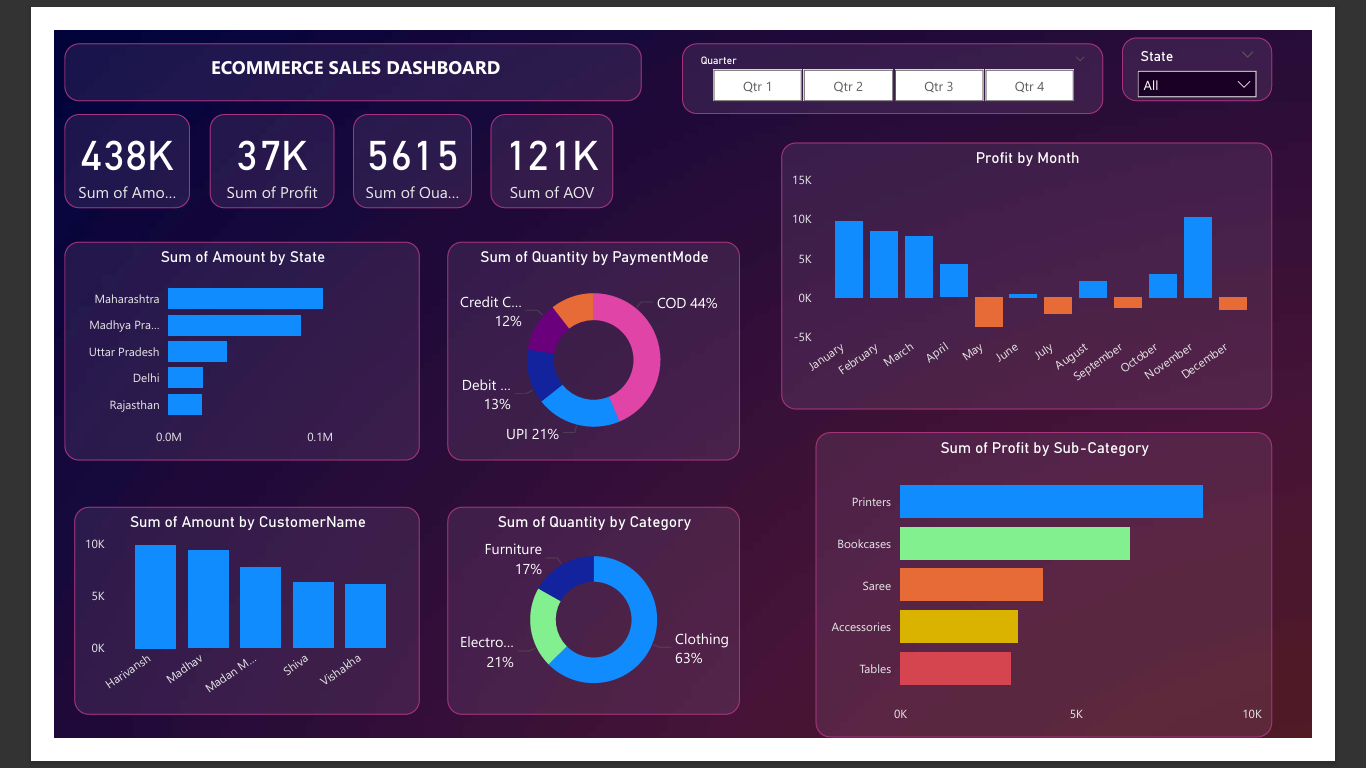

What the dashboard file says about the page in this screenshot:
{"tool":"powerbi","page":{"name":"Page 1","canvas":[1280,720],"ordinal":0},"visuals":[{"type":"textbox","box":[10.1,13,587.5,59],"z":0},{"type":"columnChart","title":" Profit by Month","fields":{"Y":["Details.Profit"],"Category":["Orders.Order Date.Variation.Date Hierarchy.Month"]},"box":[740.2,113.8,499.7,272.2],"z":1000},{"type":"barChart","fields":{"Category":["Details.Sub-Category"],"Y":["Details.Profit"]},"box":[774.7,409,465.1,311],"z":2000},{"type":"donutChart","fields":{"Category":["Details.Category"],"Y":["Details.Quantity"]},"box":[400.3,485.3,298.1,211.7],"z":3000},{"type":"donutChart","fields":{"Y":["Details.Quantity"],"Category":["Details.PaymentMode"]},"box":[400.3,214.6,298.1,223.2],"z":4000},{"type":"card","fields":{"Values":["Details.Amount"]},"box":[10.1,85,128.2,96.5],"z":5000},{"type":"card","fields":{"Values":["Details.Profit"]},"box":[158.4,85,126.7,96.5],"z":6000},{"type":"card","fields":{"Values":["Details.Quantity"]},"box":[303.8,85,121,96.5],"z":7000},{"type":"card","fields":{"Values":["Details.AOV"]},"box":[443.5,85,125.3,96.5],"z":8000},{"type":"barChart","fields":{"Y":["Details.Amount"],"Category":["Orders.State"]},"box":[10.1,214.6,361.4,223.2],"z":9000},{"type":"columnChart","fields":{"Category":["Orders.CustomerName"],"Y":["Details.Amount"]},"box":[20.2,485.3,351.4,211.7],"z":10000},{"type":"slicer","fields":{"Values":["Orders.Order Date.Variation.Date Hierarchy.Quarter"]},"box":[639.4,13,429.1,72],"z":10001},{"type":"slicer","fields":{"Values":["Orders.State"]},"box":[1087.2,7.2,152.6,64.8],"z":10002}]}

Visuals, with their boxes in screenshot pixels (x1, y1, x2, y2), scaled from the page's 1280x720 canvas onto the 1366x768 screenshot:
textbox: BBox(11, 14, 638, 77)
" Profit by Month" columnChart: BBox(790, 121, 1323, 412)
barChart - Details.Sub-Category x Details.Profit: BBox(827, 436, 1323, 767)
donutChart - Details.Category x Details.Quantity: BBox(427, 518, 745, 743)
donutChart - Details.Quantity x Details.PaymentMode: BBox(427, 229, 745, 467)
card - Details.Amount: BBox(11, 91, 148, 194)
card - Details.Profit: BBox(169, 91, 304, 194)
card - Details.Quantity: BBox(324, 91, 453, 194)
card - Details.AOV: BBox(473, 91, 607, 194)
barChart - Details.Amount x Orders.State: BBox(11, 229, 396, 467)
columnChart - Orders.CustomerName x Details.Amount: BBox(22, 518, 397, 743)
slicer - Orders.Order Date.Variation.Date Hierarchy.Quarter: BBox(682, 14, 1140, 91)
slicer - Orders.State: BBox(1160, 8, 1323, 77)
